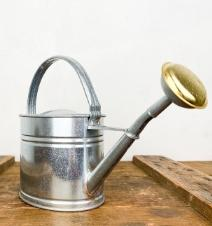ARROSOIR: (0, 53, 207, 216)
